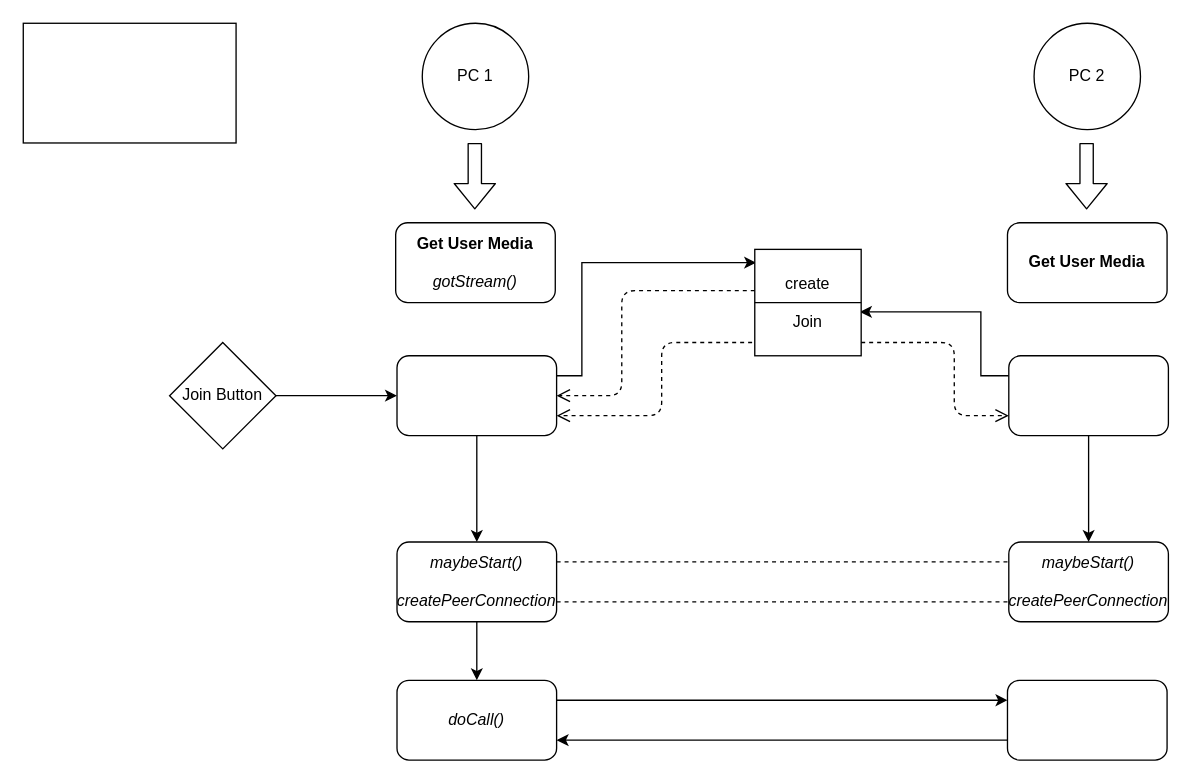
The diagram is 1192 pixels wide and 783 high, and some of its shapes have lost their labels. The centre of each missing label's shape, as x and y in pixels:
doAnswer(): the point at 1086,719
Join The Room: the point at 1087,395
Join The Room join_chat() WS: "create_or_join": the point at 476,395
Web RTC Login Required Https Required Wss Required: the point at 129,82
